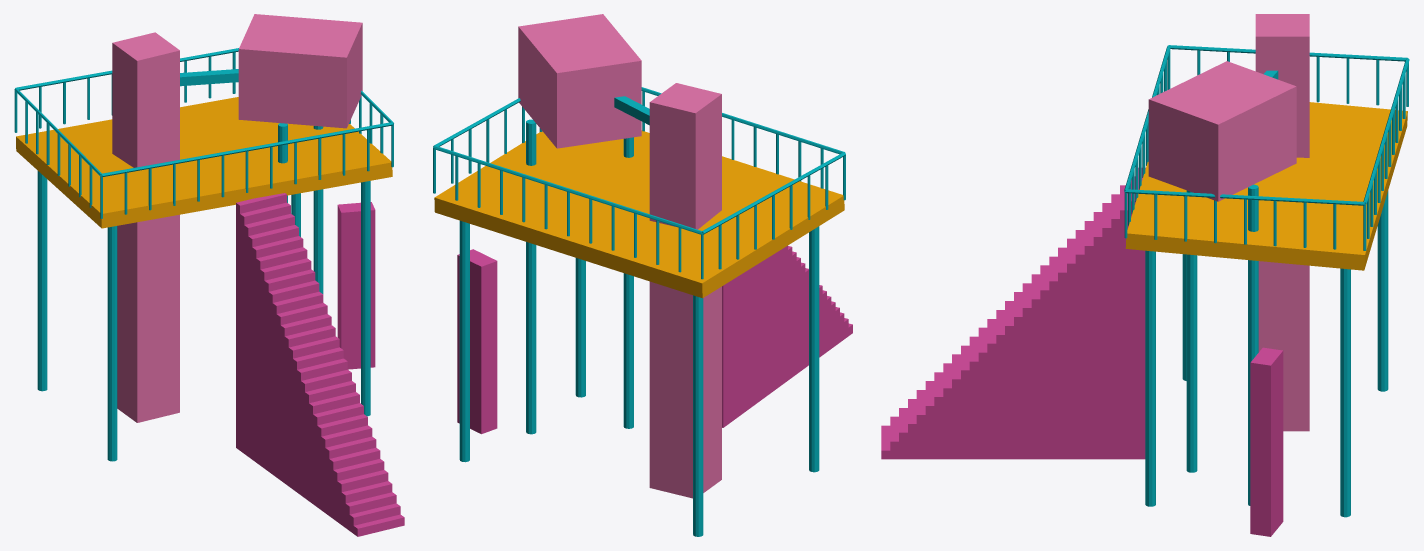
File: folie_tag_046.glb
The picture shows the model from 3 angles, left to right: view 1: azimuth 30°, elevation 25°; view 2: azimuth 150°, elevation 25°; view 3: azimuth 270°, elevation 25°; orthographic projection. The views are drawn at different scales.
Parts seen in each view (by area): view 1: folie_tag_046_stairs, folie_tag_046_00_plate, folie_tag_046_core, folie_tag_046_line, folie_tag_046_01_block, folie_tag_046_02_fin; view 2: folie_tag_046_00_plate, folie_tag_046_line, folie_tag_046_core, folie_tag_046_01_block, folie_tag_046_stairs, folie_tag_046_02_fin; view 3: folie_tag_046_stairs, folie_tag_046_00_plate, folie_tag_046_line, folie_tag_046_01_block, folie_tag_046_core, folie_tag_046_02_fin.
Boxes of the visible parts, <box> form: folie_tag_046_stairs: <box>236,193,404,536</box>; folie_tag_046_00_plate: <box>16,97,392,228</box>; folie_tag_046_core: <box>112,32,179,422</box>; folie_tag_046_line: <box>14,48,393,461</box>; folie_tag_046_01_block: <box>238,14,362,128</box>; folie_tag_046_02_fin: <box>337,202,375,369</box>; folie_tag_046_00_plate: <box>434,130,844,298</box>; folie_tag_046_line: <box>433,87,845,536</box>; folie_tag_046_core: <box>649,83,721,498</box>; folie_tag_046_01_block: <box>518,14,641,148</box>; folie_tag_046_stairs: <box>722,245,852,427</box>; folie_tag_046_02_fin: <box>457,249,497,434</box>; folie_tag_046_stairs: <box>881,167,1145,459</box>; folie_tag_046_00_plate: <box>1125,102,1407,270</box>; folie_tag_046_line: <box>1124,45,1409,517</box>; folie_tag_046_01_block: <box>1148,61,1296,201</box>; folie_tag_046_core: <box>1255,14,1309,431</box>; folie_tag_046_02_fin: <box>1250,347,1283,536</box>.
Size of the model in its own units: 8.15 by 8.87 by 10.76.
